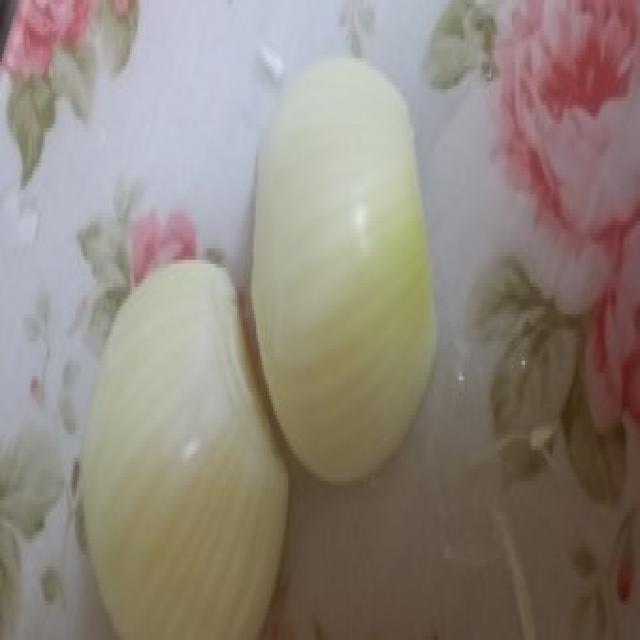Onion: (237, 80, 435, 454), (94, 276, 290, 638)
